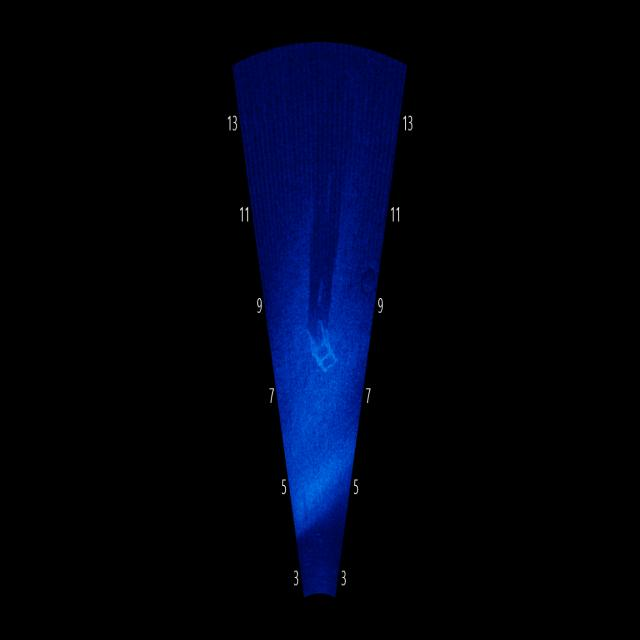square: (304, 300, 341, 385)
